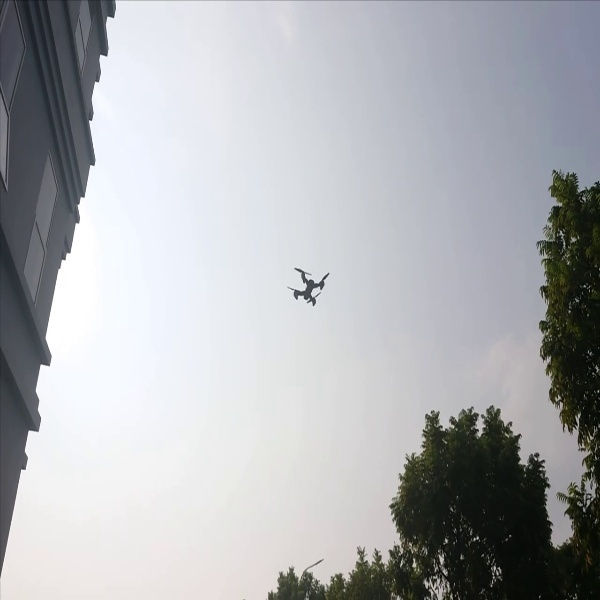drone: (289, 258, 331, 309)
